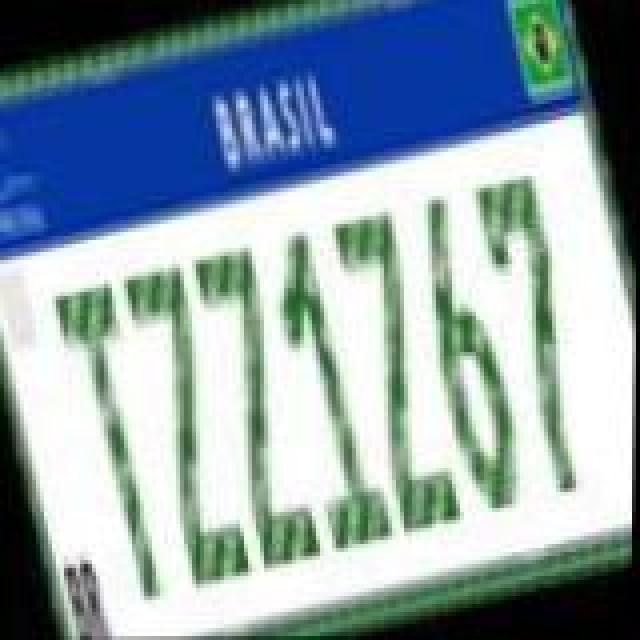1: (258, 220, 402, 560)
6: (398, 186, 538, 526)
7: (468, 166, 612, 506)
T: (44, 276, 188, 612)
Z: (118, 254, 262, 594), (190, 238, 334, 574), (328, 208, 468, 544)
